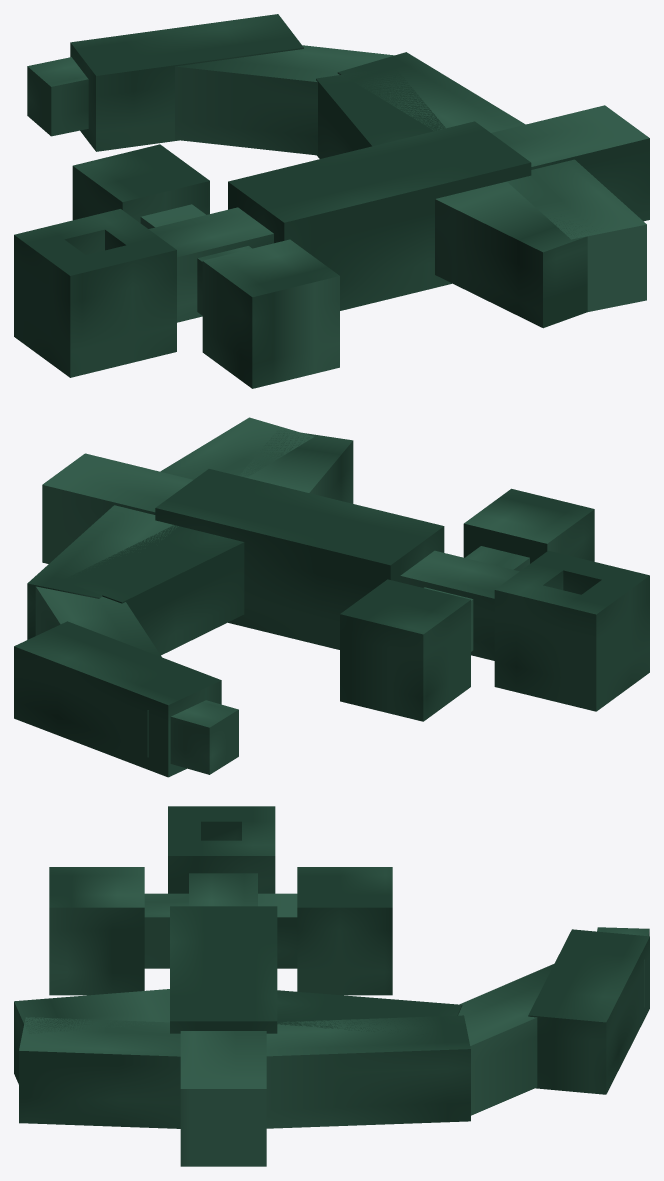
Rendered from Anchor.fbx.
3 views of the same model, one above another, from view 1: azimuth 30°, elevation 25°; view 2: azimuth 150°, elevation 25°; view 3: azimuth 270°, elevation 25° (orthographic). The views are drawn at different scales.
Visible parts, largest first — view 1: Cube.033; view 2: Cube.033; view 3: Cube.033.
Boxes of the visible parts, x1,y1,x2,y2 form: Cube.033: (14,14,649,388); Cube.033: (14,417,649,777); Cube.033: (14,806,649,1166).
Bounding box in the file's own units: 209 × 34.78 × 206.
Materials: 1 (1 with a texture image).
